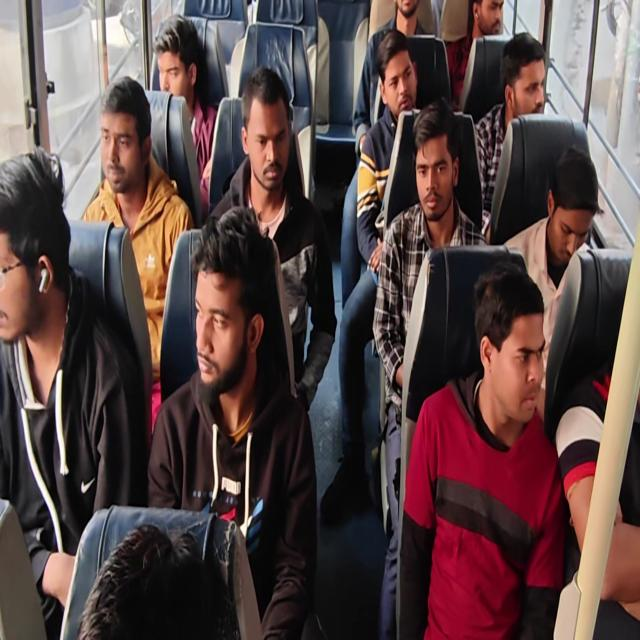person: (1, 2, 638, 638), (146, 205, 318, 638), (0, 146, 133, 638), (397, 261, 566, 638), (372, 97, 488, 638), (319, 29, 421, 522), (208, 65, 337, 412), (81, 76, 194, 436), (548, 246, 640, 638), (503, 146, 600, 423), (76, 520, 240, 639), (356, 30, 419, 274), (474, 32, 546, 240), (353, 0, 437, 162), (153, 12, 217, 214), (440, 0, 504, 110)
